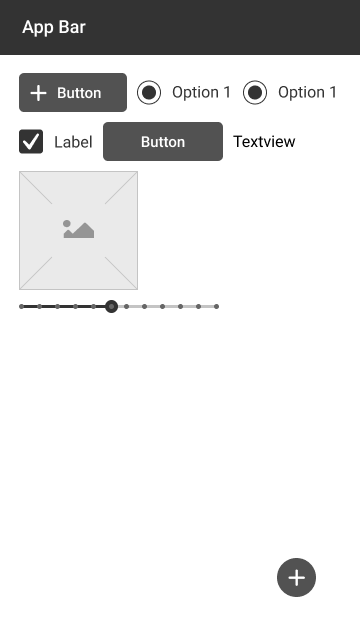button: (101, 121, 225, 163)
buttonImage: (18, 71, 128, 113)
checkBox: (17, 127, 97, 156)
floatingButton: (275, 556, 318, 601)
imageView: (17, 169, 141, 292)
radioButton: (134, 78, 234, 106), (243, 78, 341, 106)
slider: (18, 298, 222, 313)
textView: (230, 133, 301, 152)
toolbar: (1, 2, 359, 55)
